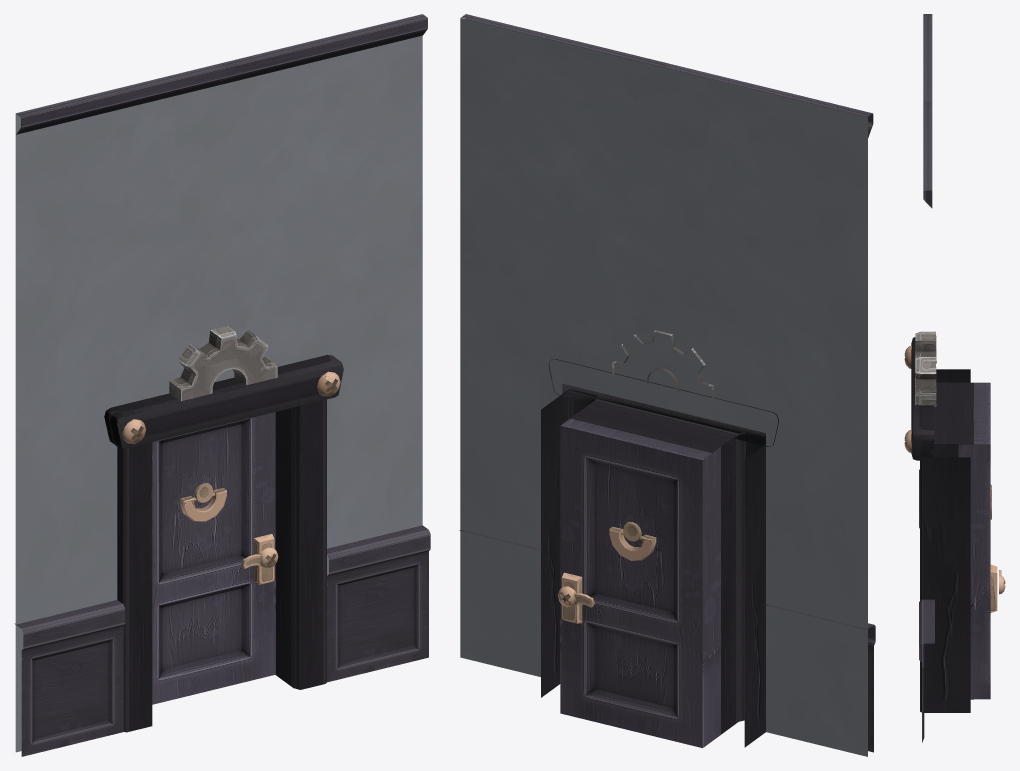
Rendered from Ev_company_inner_doormoldingwall.fbx.
The picture shows the model from 3 angles, left to right: view 1: azimuth 30°, elevation 25°; view 2: azimuth 150°, elevation 25°; view 3: azimuth 270°, elevation 25°; orthographic projection. The views are drawn at different scales.
Parts seen in each view (by area): view 1: Ev_company_inner_door_wall, Ev_company_inner_door_wall_molding, Ev_company_inner_door; view 2: Ev_company_inner_door_wall, Ev_company_inner_door, Ev_company_inner_door_wall_molding; view 3: Ev_company_inner_door_wall, Ev_company_inner_door, Ev_company_inner_door_wall_molding.
Boxes of the visible parts, <box> form: Ev_company_inner_door_wall: <box>15,14,422,752</box>; Ev_company_inner_door_wall_molding: <box>14,14,430,756</box>; Ev_company_inner_door: <box>152,412,278,704</box>; Ev_company_inner_door_wall: <box>460,18,867,756</box>; Ev_company_inner_door: <box>558,418,720,748</box>; Ev_company_inner_door_wall_molding: <box>459,14,875,752</box>; Ev_company_inner_door_wall: <box>904,331,973,712</box>; Ev_company_inner_door: <box>958,382,1005,699</box>; Ev_company_inner_door_wall_molding: <box>919,14,934,742</box>.
Bounding box in the file's own units: 200 × 300 × 48.45.
